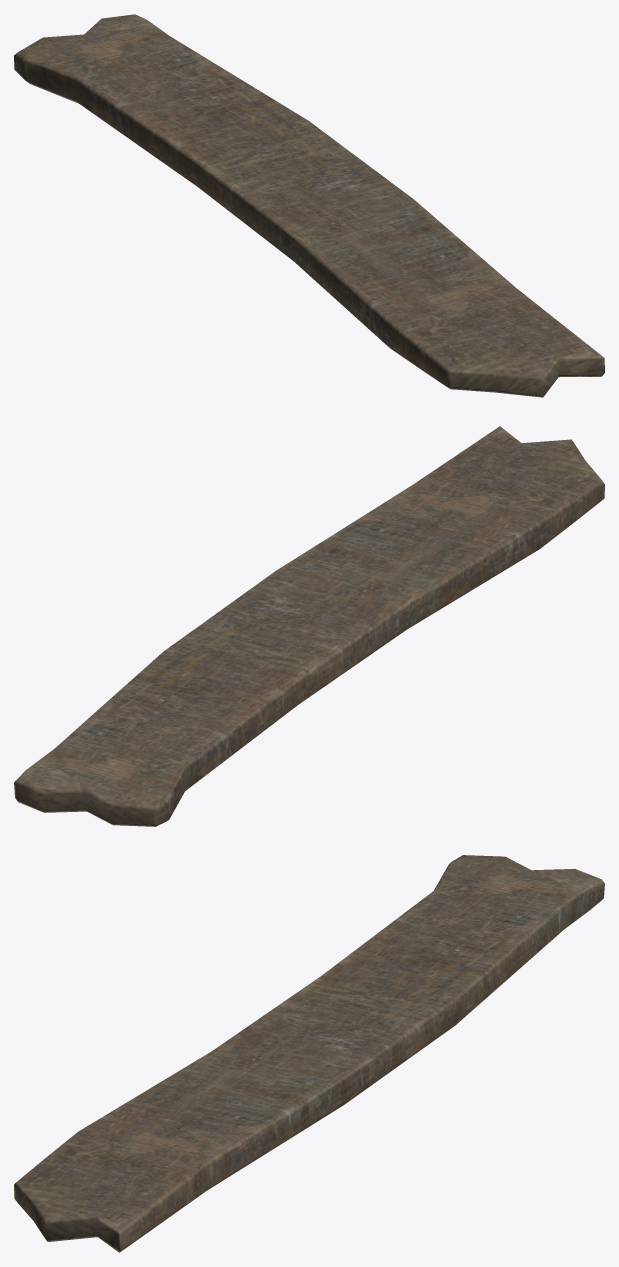
Rendered from SM_Plank_07.fbx.
3 renders of one model, top to bottom at view 1: azimuth 30°, elevation 25°; view 2: azimuth 150°, elevation 25°; view 3: azimuth 330°, elevation 25°, orthographic. The views are drawn at different scales.
Visible parts, largest first — view 1: SM_Plank_07_LOD0; view 2: SM_Plank_07_LOD0; view 3: SM_Plank_07_LOD0.
Part boxes in pixels (box(x1,y1,x2,y2)): SM_Plank_07_LOD0: box(14, 14, 604, 397); SM_Plank_07_LOD0: box(14, 426, 604, 826); SM_Plank_07_LOD0: box(14, 855, 604, 1252).
Bounding box in the file's own units: 29.15 × 164 × 5.85.
Materials: 1 (1 with a texture image).
